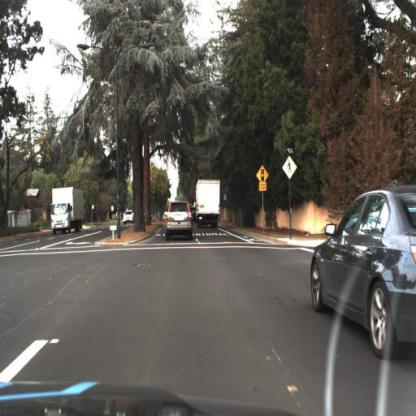car: (308, 178, 415, 379), (46, 184, 88, 240), (162, 194, 198, 252), (193, 179, 227, 233), (122, 208, 137, 229)
